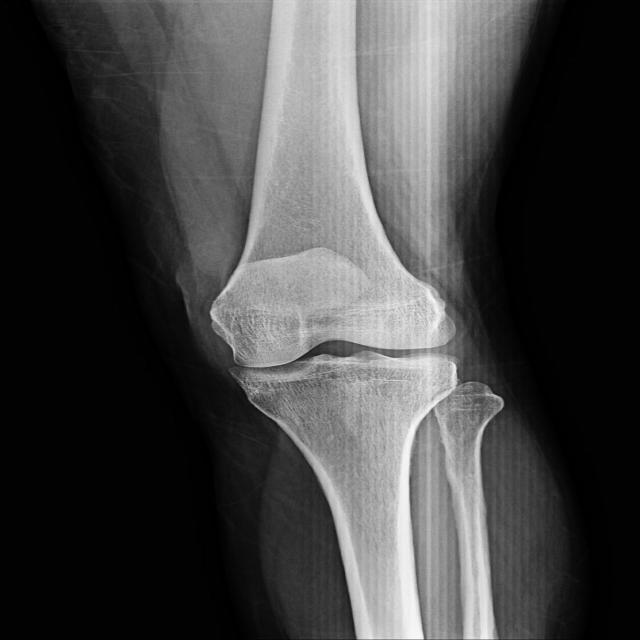osteo: (208, 296, 468, 397)
